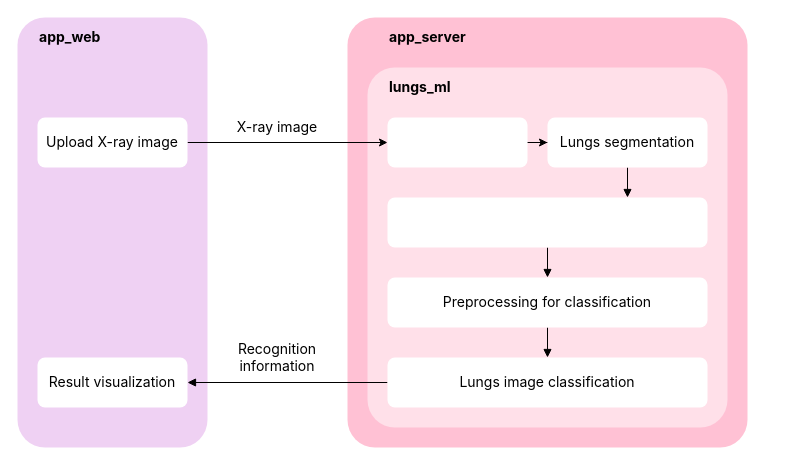
Image size: 804x464. Some labels were removed from this diagram. Here are the shapes that lost their labels. From the top down, the centre of each, then its label:
the point at 457,142: Preprocessing for segmentation
the point at 547,222: OpenCV Morphological operations
